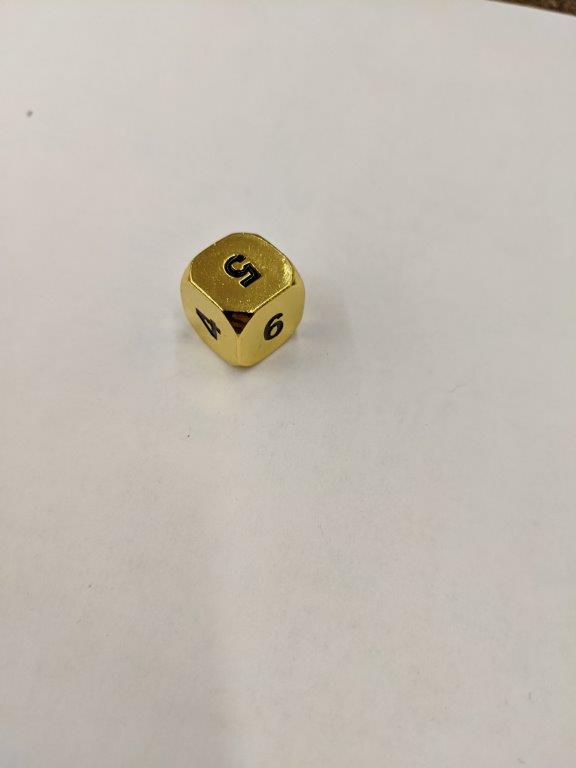d6-5: (179, 229, 306, 370)
